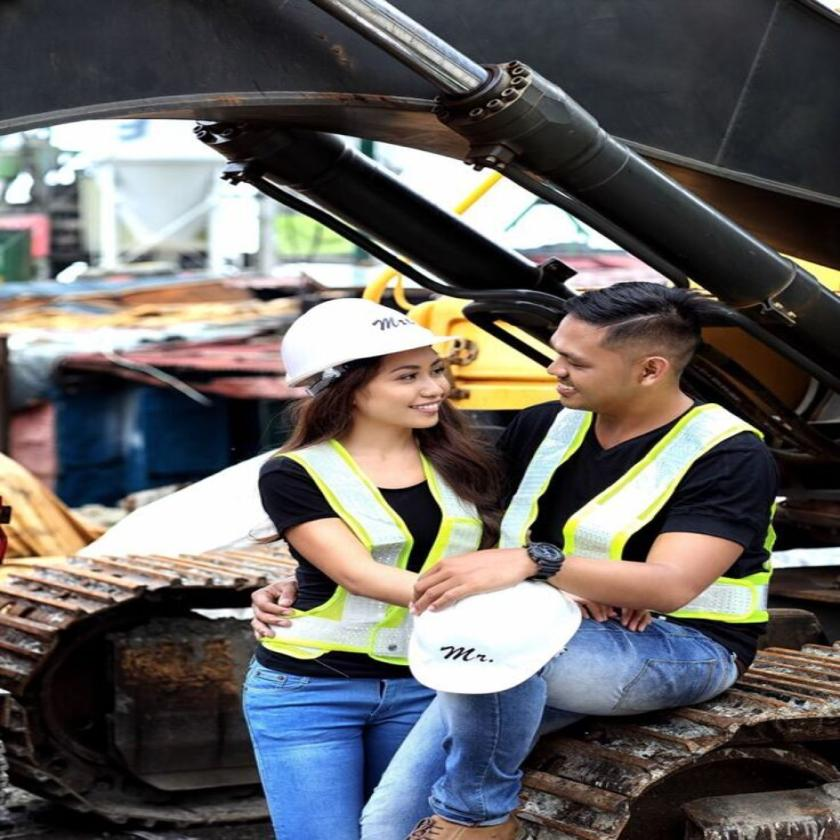Con_casco: (274, 297, 456, 448)
Sin_casco: (548, 279, 708, 424)
